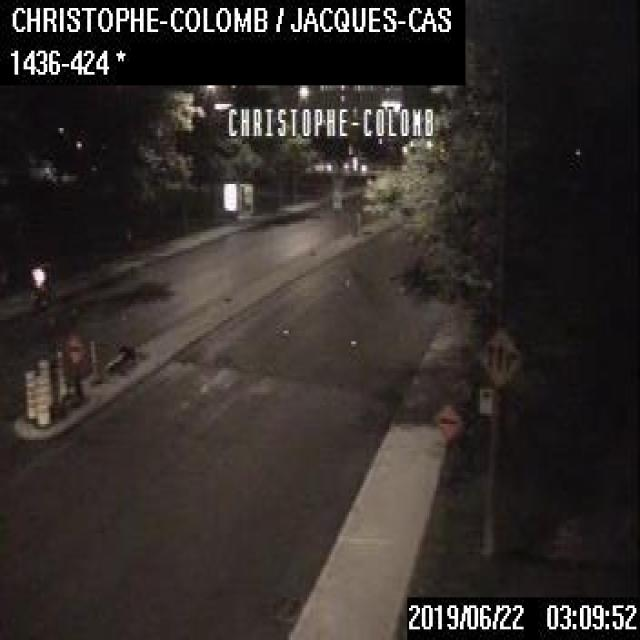construction: (64, 334, 84, 397), (37, 357, 53, 417), (33, 372, 51, 425), (24, 366, 36, 420), (56, 347, 64, 404)
